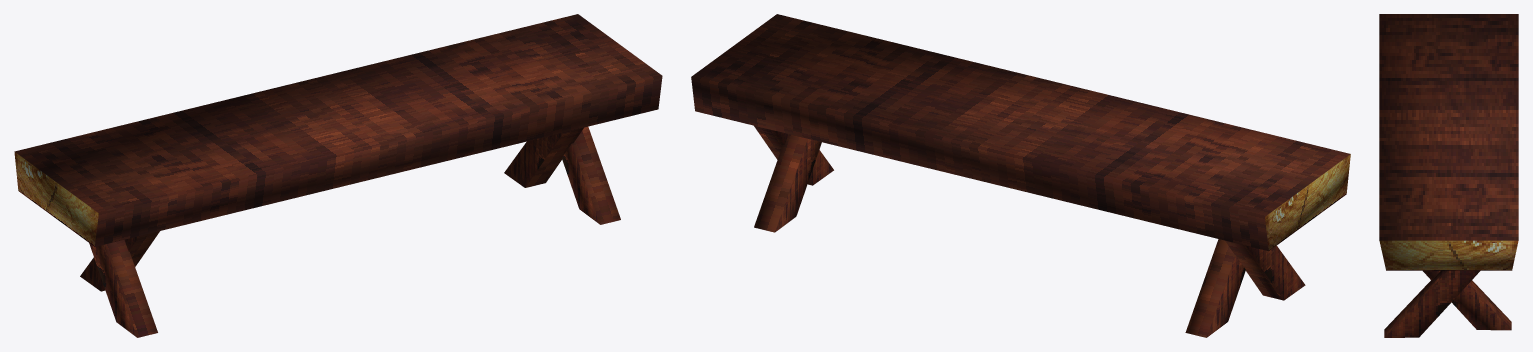
The model's file is BENCH_ACTORDEF.fbx.
The picture shows the model from 3 angles, left to right: view 1: azimuth 30°, elevation 25°; view 2: azimuth 150°, elevation 25°; view 3: azimuth 270°, elevation 25°; orthographic projection. The views are drawn at different scales.
Parts seen in each view (by area): view 1: U3DMesh; view 2: U3DMesh; view 3: U3DMesh.
Part boxes in pixels (x1,y1,x2,y2): U3DMesh: (14, 14, 662, 337); U3DMesh: (691, 14, 1350, 337); U3DMesh: (1379, 14, 1518, 337).
Bounding box in the file's own units: 11.06 × 2.57 × 2.87.
